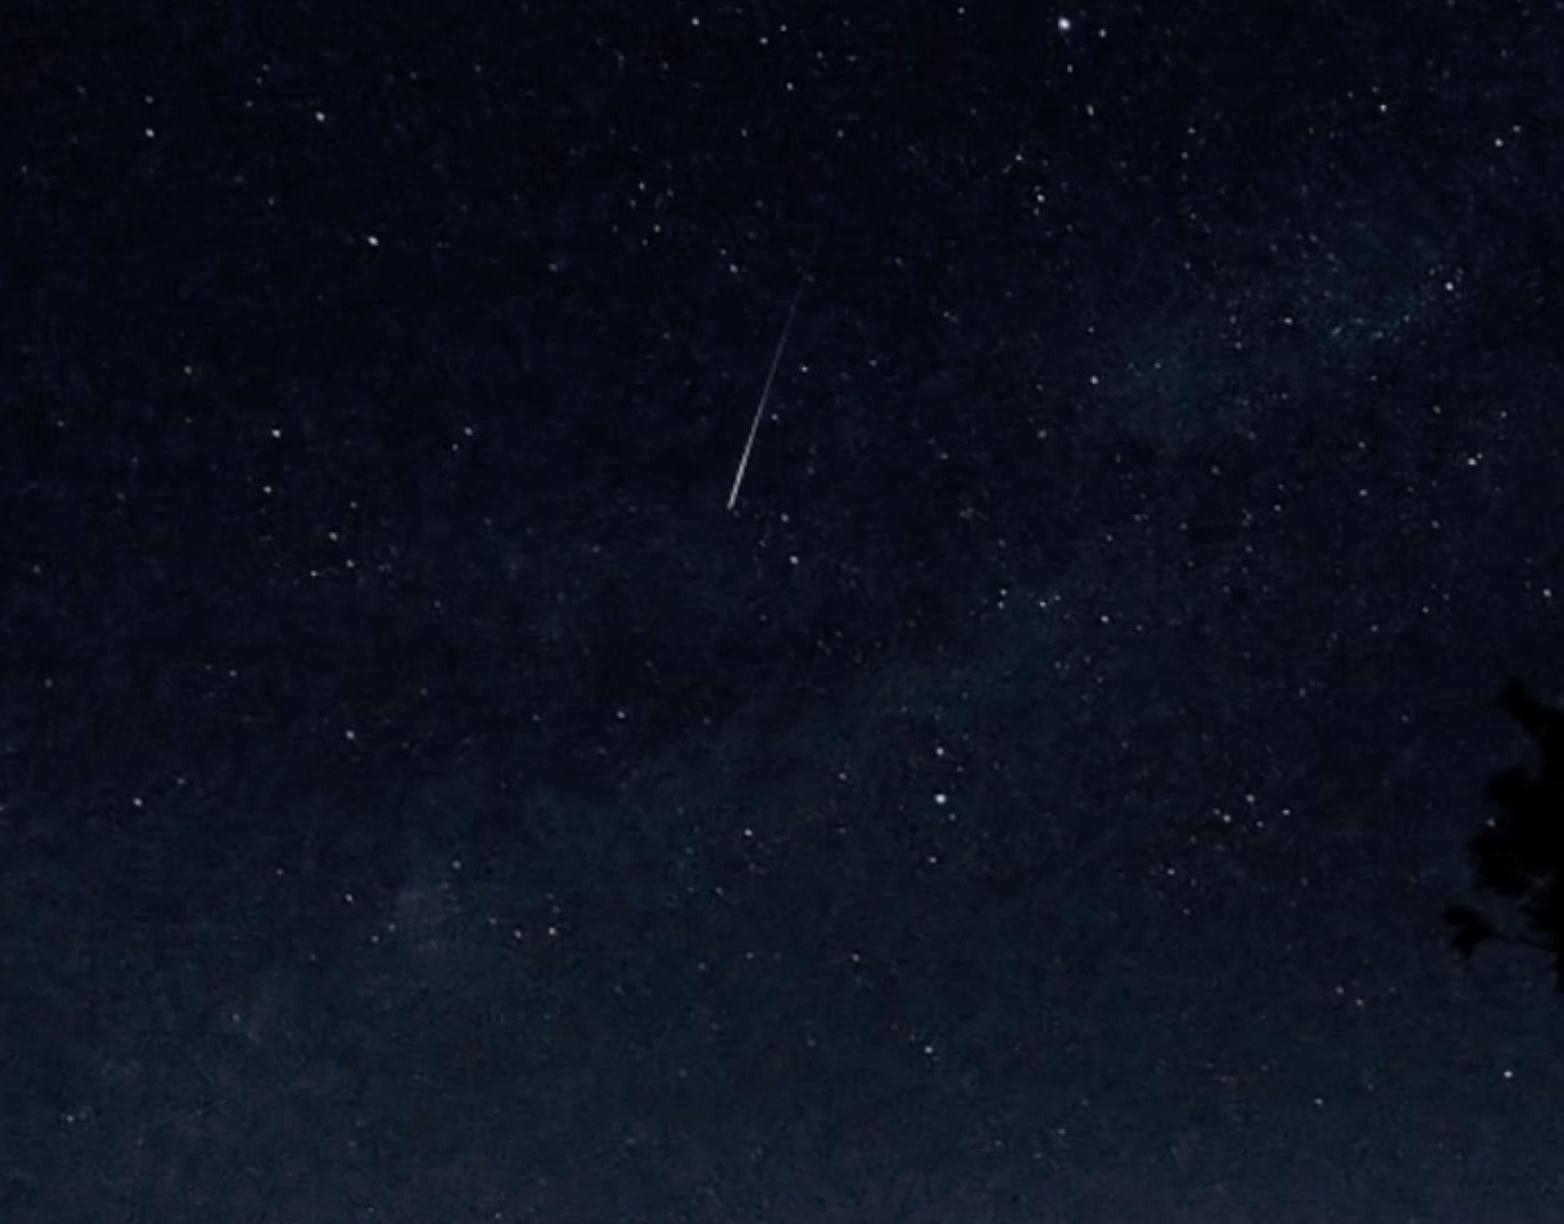meteorite: (679, 279, 839, 527)
